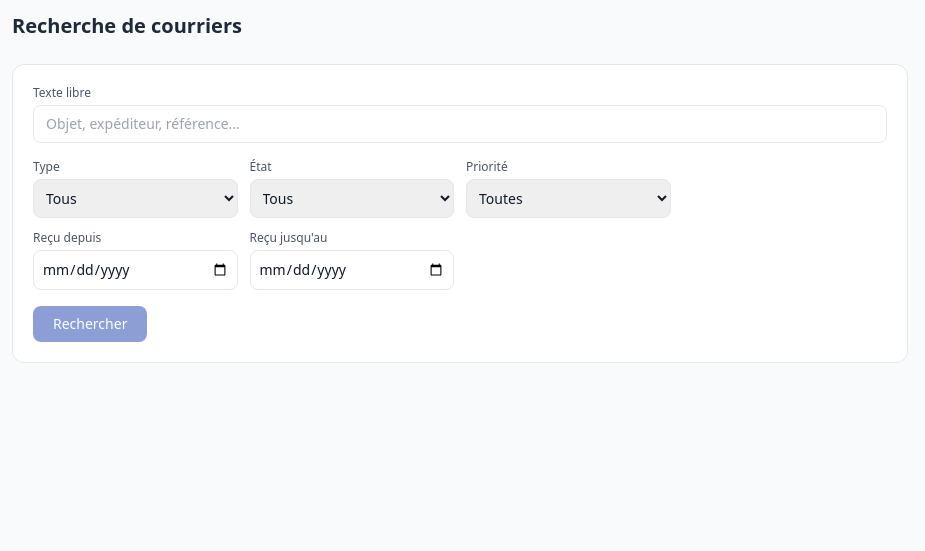
Test: RecherchePage › affiche le bouton Réinitialiser après une recherche
The width and height of the screenshot is (925, 551).
Type "rapport" into the field with placeholder "Objet, expéditeur, référence…" at coordinates (460, 124), box [33,105,887,143]
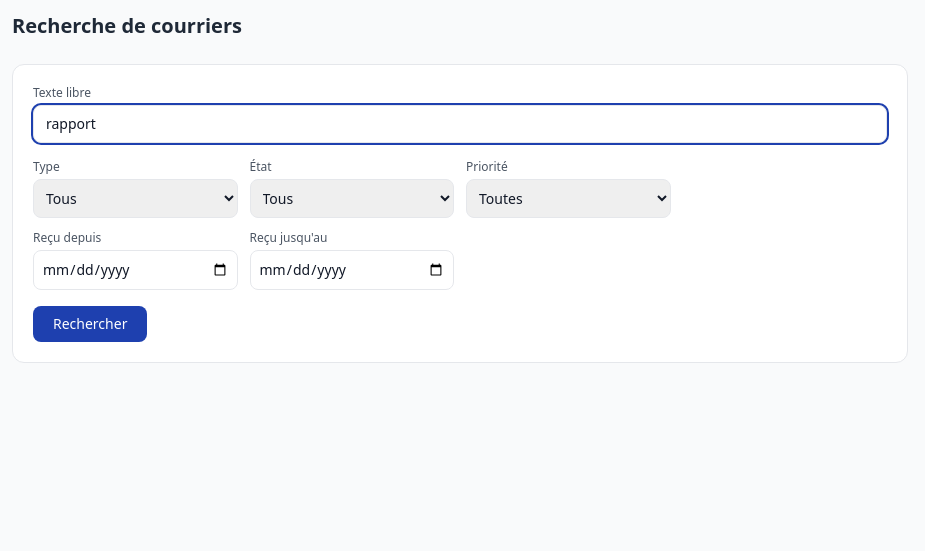
Click the button "Rechercher" at coordinates (90, 324), box [33,306,147,342]
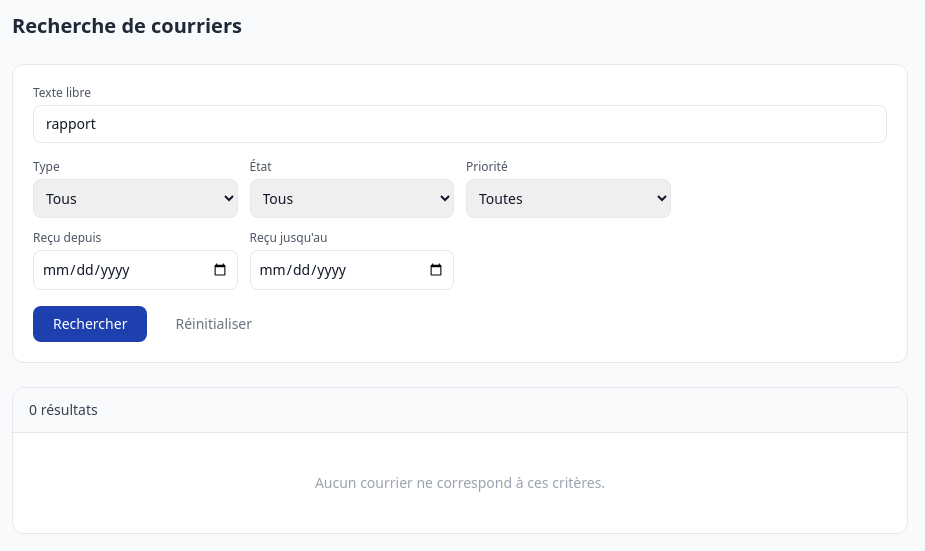
Expected: the button "Réinitialiser" is shown, [159,306,268,342]
